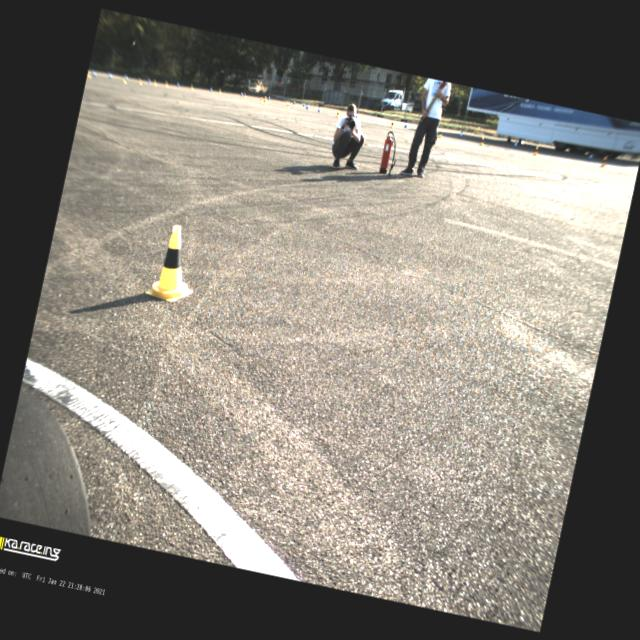blue_cone: (513, 140, 517, 148), (458, 130, 462, 138), (403, 120, 407, 128), (317, 105, 321, 112), (306, 104, 309, 110), (355, 112, 358, 118), (292, 100, 296, 104), (302, 102, 305, 106), (209, 87, 212, 91), (267, 96, 270, 100), (240, 92, 243, 95)
yellow_cone: (143, 221, 204, 305), (598, 156, 606, 168), (532, 144, 539, 156), (479, 136, 485, 146), (334, 110, 340, 118), (438, 129, 443, 138), (285, 102, 290, 110), (390, 120, 394, 128), (218, 88, 222, 95), (259, 96, 263, 102), (190, 84, 193, 90), (263, 99, 266, 104), (243, 93, 246, 98), (165, 82, 168, 87)
